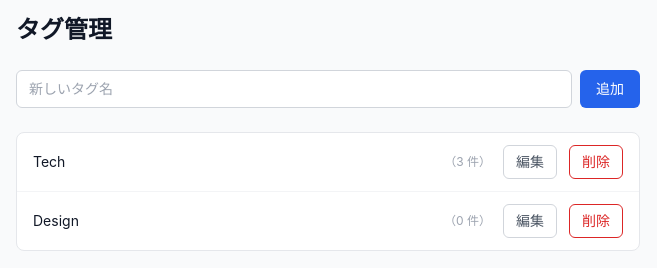
Test: TagsPage › 編集ボタンで入力フィールドが表示され、保存できる
Check: the text "Tech" is shown, box [33,153,65,170]
Click the button "編集" in the row of "Tech": {"x": 530, "y": 162} [503,145,557,179]
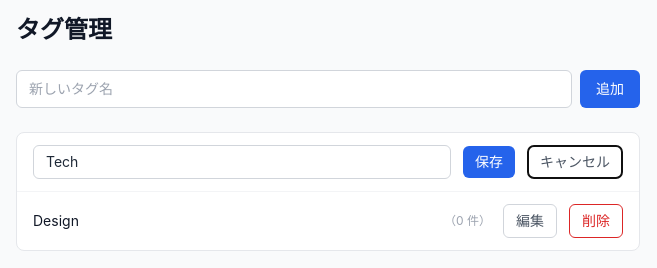
# 入力フィールドに "Updated" を追記
Replace the text in the field showing "Tech" with "Tech Updated": {"x": 242, "y": 162} [33,145,451,179]
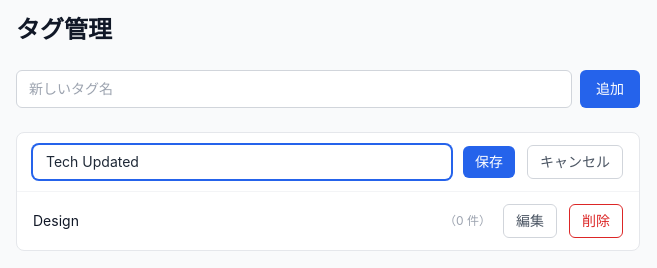
Click the button "保存": {"x": 489, "y": 162} [463,146,515,178]
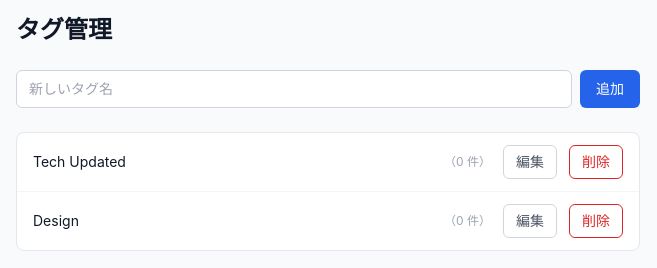
Check: the text "Tech Updated" is shown, box [33,153,126,170]
